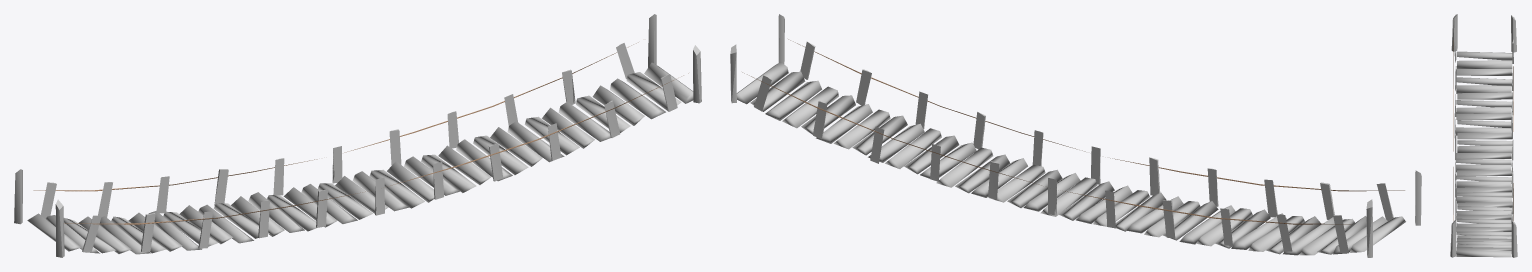
The model's file is wooden_bridge_LOD1.fbx.
3 renders of one model, left to right at view 1: azimuth 30°, elevation 25°; view 2: azimuth 150°, elevation 25°; view 3: azimuth 270°, elevation 25°, orthographic. The views are drawn at different scales.
Visible parts, largest first — view 1: under_rope_2, wood1_2, wood1_5, wood0_6, wood0_9, wood0_12, wood0_15, wood2_16, wood0_3, wood2_19, wood1_8, under_rope_3 (+32 smaller); view 2: under_rope_3, wood1_2, wood0_9, wood0_12, wood0_6, wood0_3, wood1_5, wood0_15, wood2_19, under_rope_2, wood2_1, wood0_0 (+26 smaller); view 3: wood1_35, wood1_32, wood1_23, wood0_36, wood2_31, wood0_0, wood2_34, wood1_20, wood1_29, wood2_25, wood1_17, wood0_33 (+31 smaller).
Part boxes in pixels (x1,y1,x2,y2): under_rope_2: (64,73,688,224); wood1_2: (610,78,665,119); wood1_5: (558,102,610,141); wood0_6: (542,107,594,148); wood0_9: (490,127,542,166); wood0_12: (438,145,491,184); wood0_15: (387,161,434,202); wood2_16: (369,169,424,208); wood0_3: (592,85,644,125); wood2_19: (318,183,373,219); wood1_8: (507,121,564,162); under_rope_3: (33,42,638,191); under_rope_3: (742,72,1351,224); wood1_2: (765,80,821,120); wood0_9: (885,128,941,168); wood0_12: (936,147,993,187); wood0_6: (833,109,890,149); wood0_3: (782,86,838,128); wood1_5: (816,104,872,143); wood0_15: (988,164,1045,202); wood2_19: (1059,181,1114,220); under_rope_2: (788,39,1404,191); wood2_1: (750,71,805,111); wood0_0: (736,62,788,104); wood1_35: (1457,60,1512,68); wood1_32: (1456,85,1511,93); wood1_23: (1457,145,1512,153); wood0_36: (1456,51,1512,60); wood2_31: (1457,92,1512,99); wood0_0: (1456,250,1511,257); wood2_34: (1456,69,1512,75); wood1_20: (1456,164,1511,172); wood1_29: (1456,107,1511,113); wood2_25: (1457,133,1512,139); wood1_17: (1456,181,1511,187); wood0_33: (1456,77,1512,86).
Size of the model in its own units: 1373 by 193 by 187.
4 materials, 1 textured.
